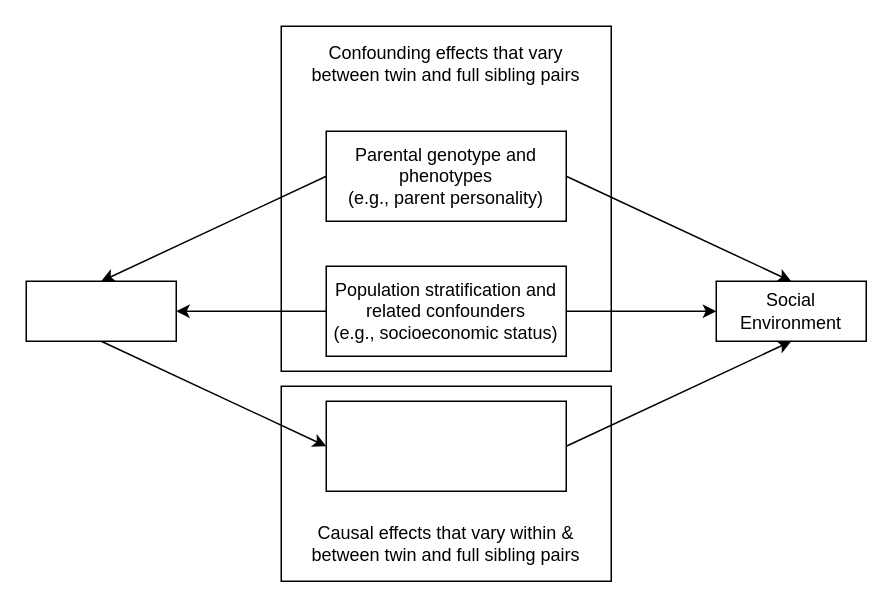
Image size: 893x608. Some labels were removed from this diagram. The box of each missing label's shape, as (x1, y1, x2, y2) in pixels:
Mediating phenotypes (e.g., externalizing behaviors, temperament, etc.): (325, 400, 566, 491)
PGS: (25, 280, 176, 341)
